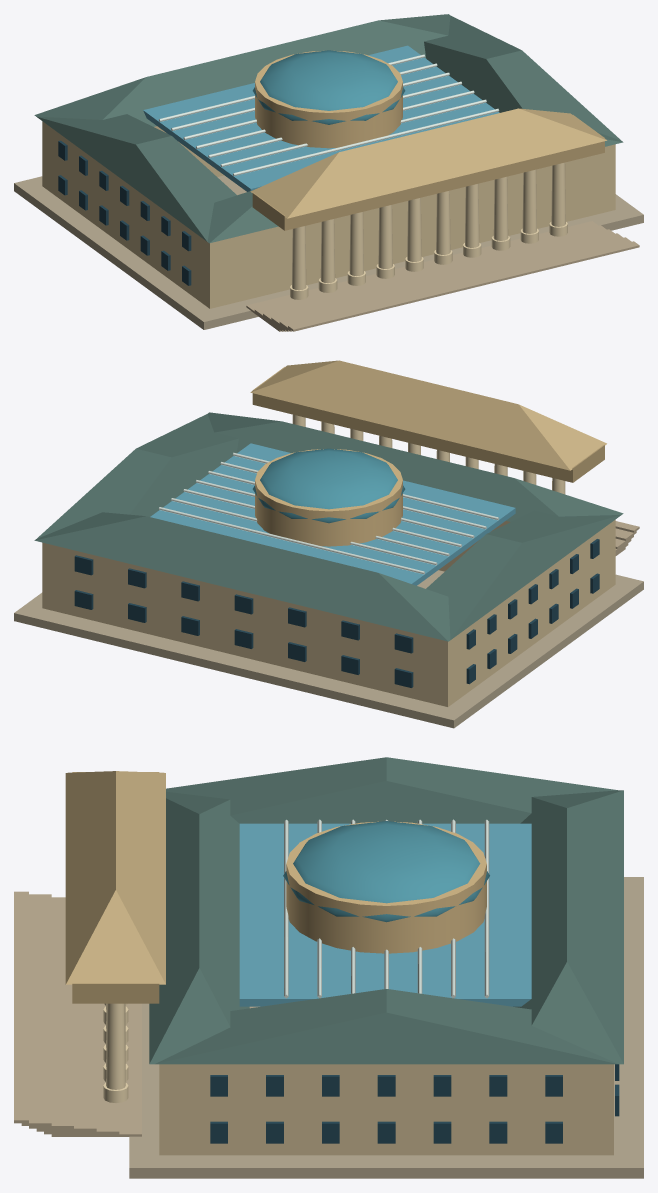
Rendered from british-museum.glb.
The picture shows the model from 3 angles, top to bottom: view 1: azimuth 30°, elevation 25°; view 2: azimuth 150°, elevation 25°; view 3: azimuth 270°, elevation 25°; orthographic projection. The views are drawn at different scales.
Visible parts, largest first — view 1: roof_9BA9A6, body_D8D2BE, roof_C1B79E, base_BCB49B, glass_court_A9C1BE, body_DCD5C1, base_B8B49D, reading_room_A8B9AF, reading_room_C1B496, body_CEC5AD, glass_court_D1DBCD, detail_6B6A5B; view 2: roof_9BA9A6, body_D8D2BE, roof_C1B79E, base_B8B49D, glass_court_A9C1BE, detail_6B6A5B, reading_room_A8B9AF, reading_room_C1B496, body_CEC5AD, glass_court_D1DBCD, body_DCD5C1, base_BCB49B; view 3: roof_9BA9A6, body_D8D2BE, glass_court_A9C1BE, roof_C1B79E, base_B8B49D, base_BCB49B, reading_room_A8B9AF, reading_room_C1B496, detail_6B6A5B, glass_court_D1DBCD, body_DCD5C1, body_CEC5AD.
Boxes of the visible parts, left/top/right/bottom form: roof_9BA9A6: left=34, top=14, right=623, bottom=243; body_D8D2BE: left=42, top=121, right=615, bottom=308; roof_C1B79E: left=250, top=108, right=607, bottom=218; base_BCB49B: left=246, top=221, right=639, bottom=331; glass_court_A9C1BE: left=143, top=45, right=499, bottom=191; body_DCD5C1: left=290, top=162, right=567, bottom=299; base_B8B49D: left=14, top=175, right=643, bottom=329; reading_room_A8B9AF: left=252, top=50, right=405, bottom=124; reading_room_C1B496: left=255, top=51, right=402, bottom=148; body_CEC5AD: left=252, top=115, right=604, bottom=230; glass_court_D1DBCD: left=159, top=54, right=499, bottom=176; detail_6B6A5B: left=58, top=140, right=191, bottom=285; roof_9BA9A6: left=34, top=412, right=623, bottom=641; body_D8D2BE: left=42, top=519, right=615, bottom=706; roof_C1B79E: left=250, top=360, right=606, bottom=470; base_B8B49D: left=14, top=570, right=643, bottom=728; glass_court_A9C1BE: left=150, top=443, right=515, bottom=585; detail_6B6A5B: left=74, top=539, right=599, bottom=687; reading_room_A8B9AF: left=252, top=448, right=405, bottom=523; reading_room_C1B496: left=255, top=449, right=402, bottom=546; body_CEC5AD: left=252, top=367, right=604, bottom=482; glass_court_D1DBCD: left=159, top=452, right=499, bottom=574; body_DCD5C1: left=292, top=414, right=565, bottom=494; base_BCB49B: left=615, top=521, right=639, bottom=555; roof_9BA9A6: left=149, top=757, right=623, bottom=1064; body_D8D2BE: left=159, top=1064, right=613, bottom=1155; glass_court_A9C1BE: left=239, top=823, right=531, bottom=1006; roof_C1B79E: left=65, top=771, right=165, bottom=984; base_B8B49D: left=129, top=877, right=643, bottom=1178; base_BCB49B: left=14, top=891, right=141, bottom=1136; reading_room_A8B9AF: left=283, top=821, right=489, bottom=922; reading_room_C1B496: left=286, top=821, right=486, bottom=953; detail_6B6A5B: left=210, top=1064, right=619, bottom=1143; glass_court_D1DBCD: left=284, top=819, right=489, bottom=998; body_DCD5C1: left=103, top=1003, right=128, bottom=1102; body_CEC5AD: left=72, top=772, right=159, bottom=1003.
Bounding box in the file's own units: 1 × 0.3252 × 0.915.
